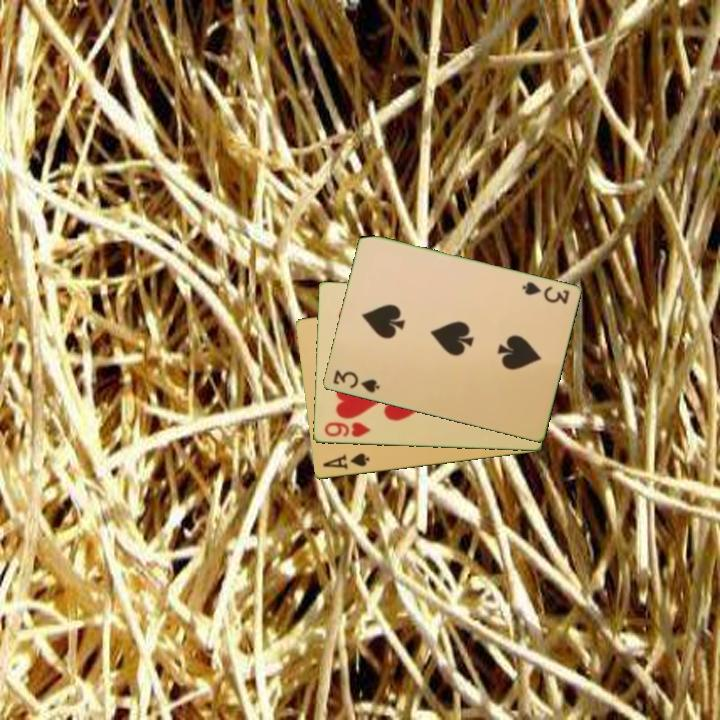3s: (518, 278, 572, 307), (329, 367, 382, 396)
9h: (320, 419, 373, 440)
As: (319, 450, 372, 472)
